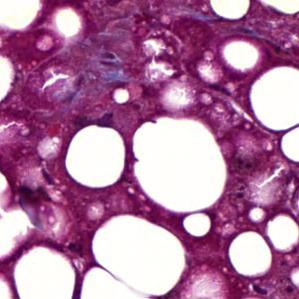steatosis: (66, 125, 128, 196), (226, 227, 272, 279)
